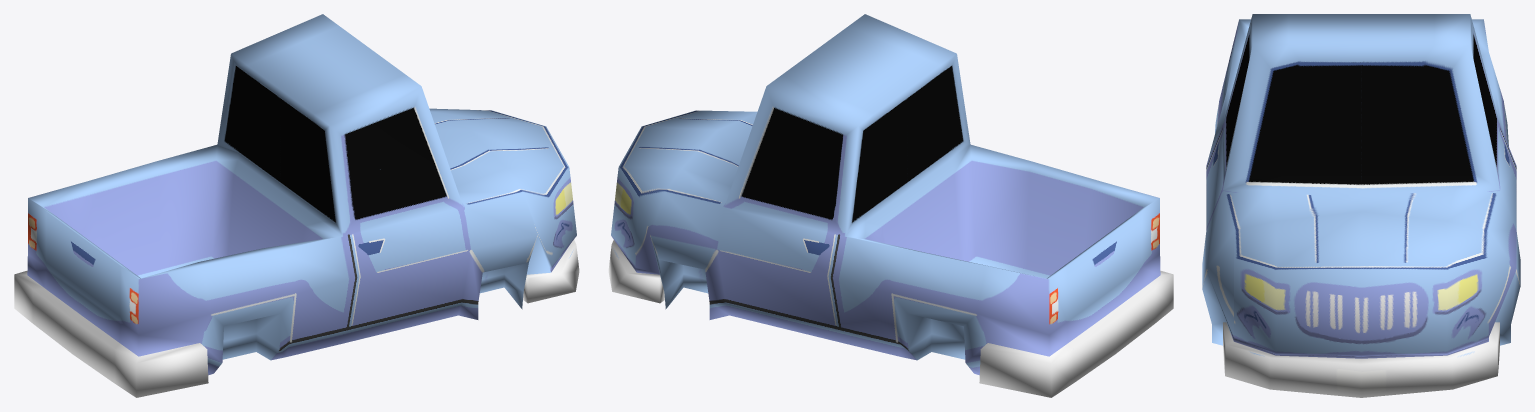
File: Car2.obj
The picture shows the model from 3 angles, left to right: view 1: azimuth 30°, elevation 25°; view 2: azimuth 150°, elevation 25°; view 3: azimuth 270°, elevation 25°; orthographic projection. The views are drawn at different scales.
Visible parts, largest first — view 1: Cube.002_Cube.006; view 2: Cube.002_Cube.006; view 3: Cube.002_Cube.006.
Part boxes in pixels (<box>): Cube.002_Cube.006: <box>14,14,579,397</box>; Cube.002_Cube.006: <box>608,14,1173,397</box>; Cube.002_Cube.006: <box>1202,14,1520,397</box>.
Bounding box in the file's own units: 6.1 × 2.78 × 3.13.
Materials: 1 (1 with a texture image).
